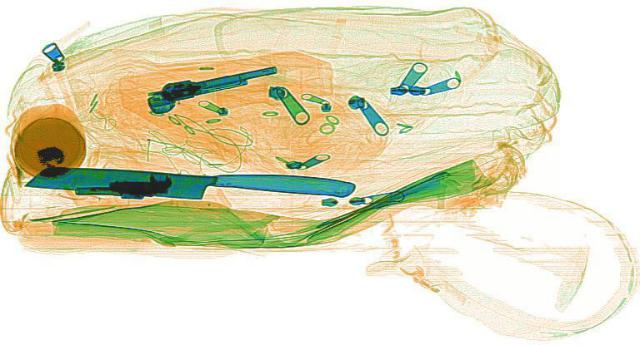Gun: (133, 61, 291, 113)
Knife: (23, 160, 355, 205)
